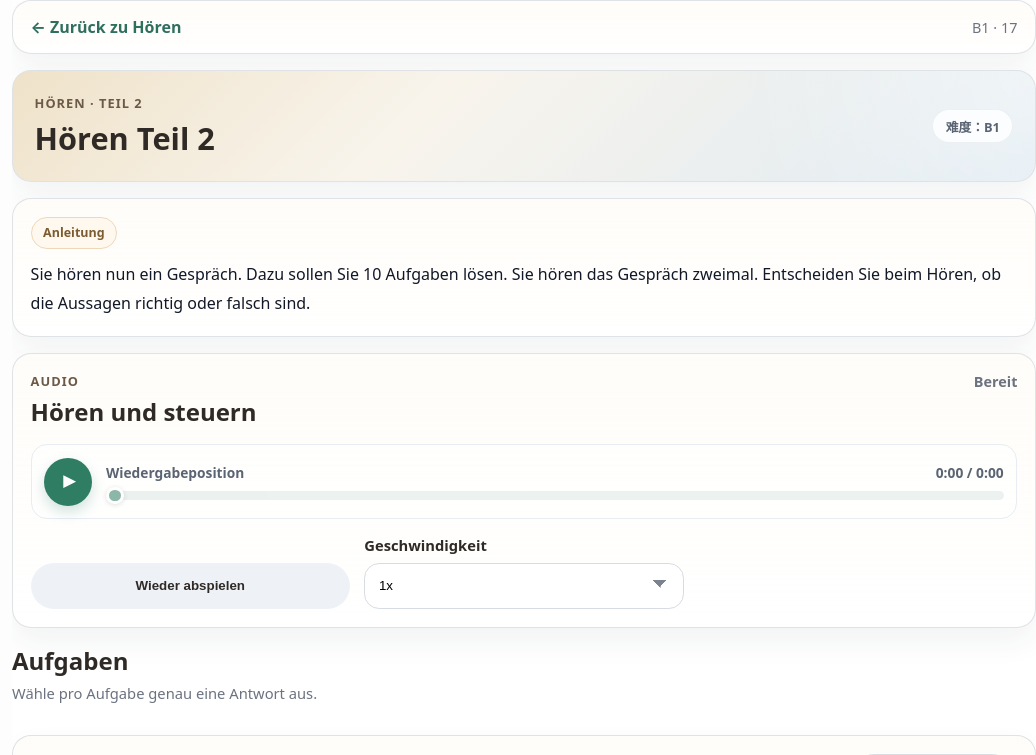
Scenario: listening exercise audio loading › keeps the failure UI when diagnostic reporting fails
The width and height of the screenshot is (1036, 755).
Click the button named "Audio abspielen".
click(68, 482)  # box [44, 458, 92, 506]
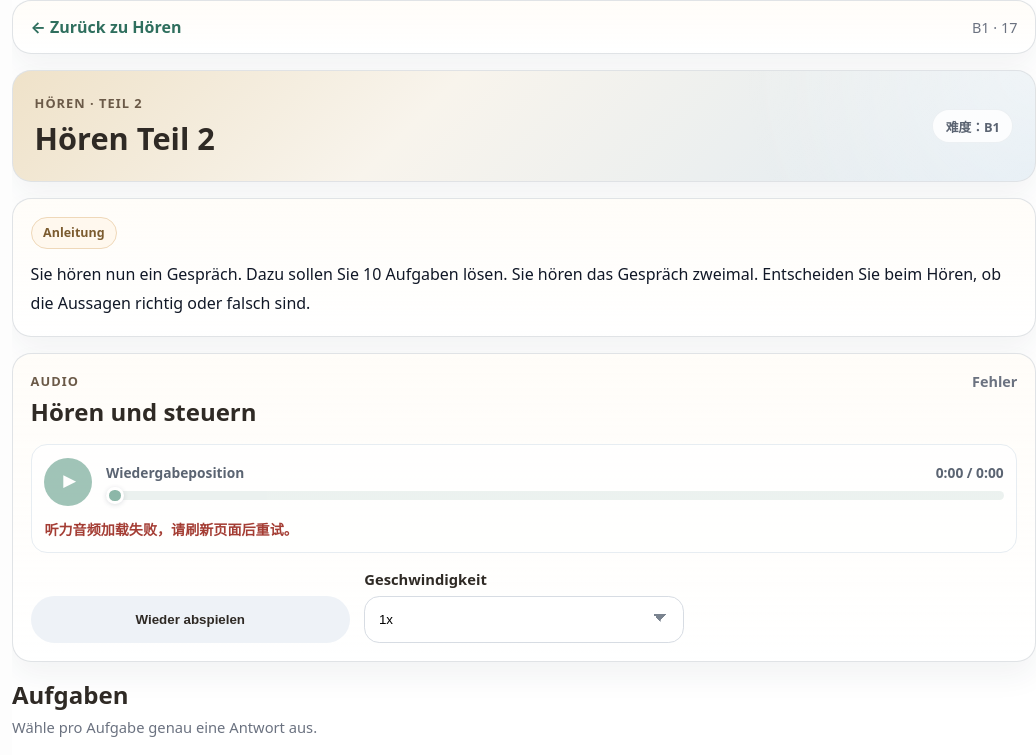
Now the text "听力音频加载失败，请刷新页面后重试。" is shown, box [44, 520, 298, 539]
